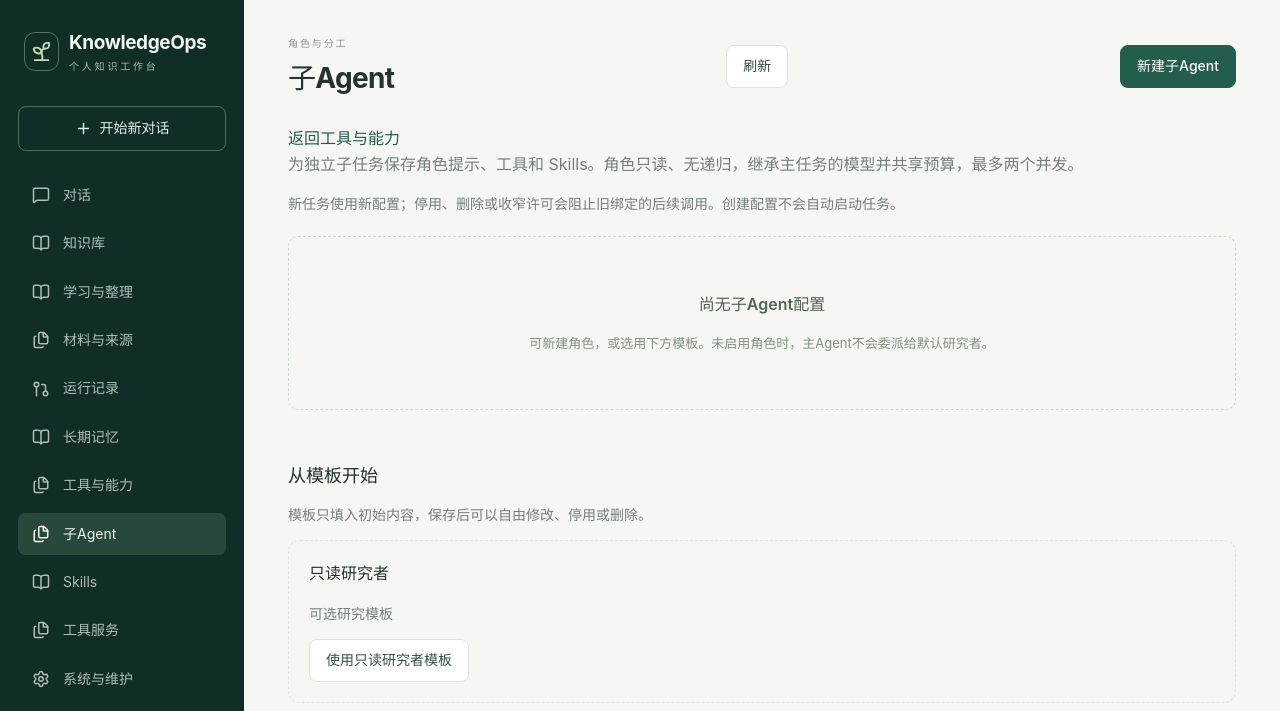
opens a template without writing and saves it as an editable ordinary role
This screenshot has width=1280, height=711.
Click the link "使用只读研究者模板".
click(389, 661)  # box top-left (309, 640), bottom-right (469, 682)
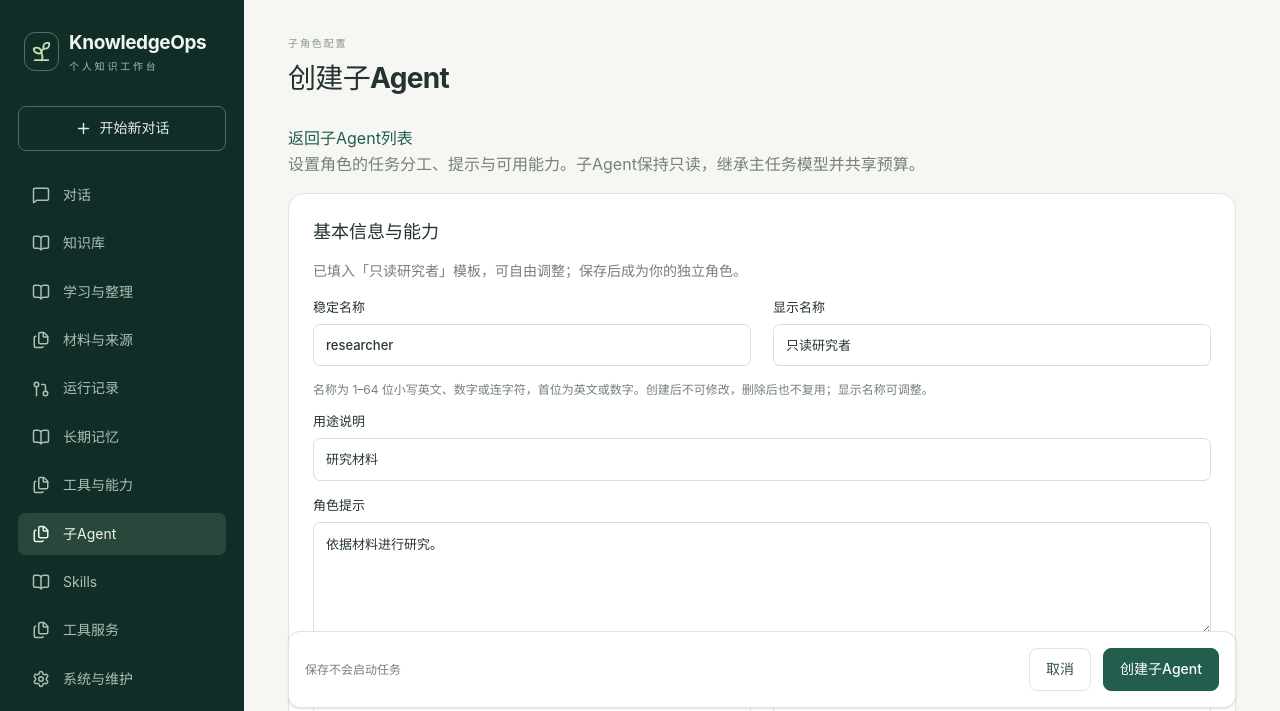
Now the field labelled "稳定名称" holds "researcher", box top-left (313, 324), bottom-right (751, 366)
Type "甲" into the field labelled "显示名称".
click(992, 345); type("甲")  # box top-left (773, 324), bottom-right (1211, 366)
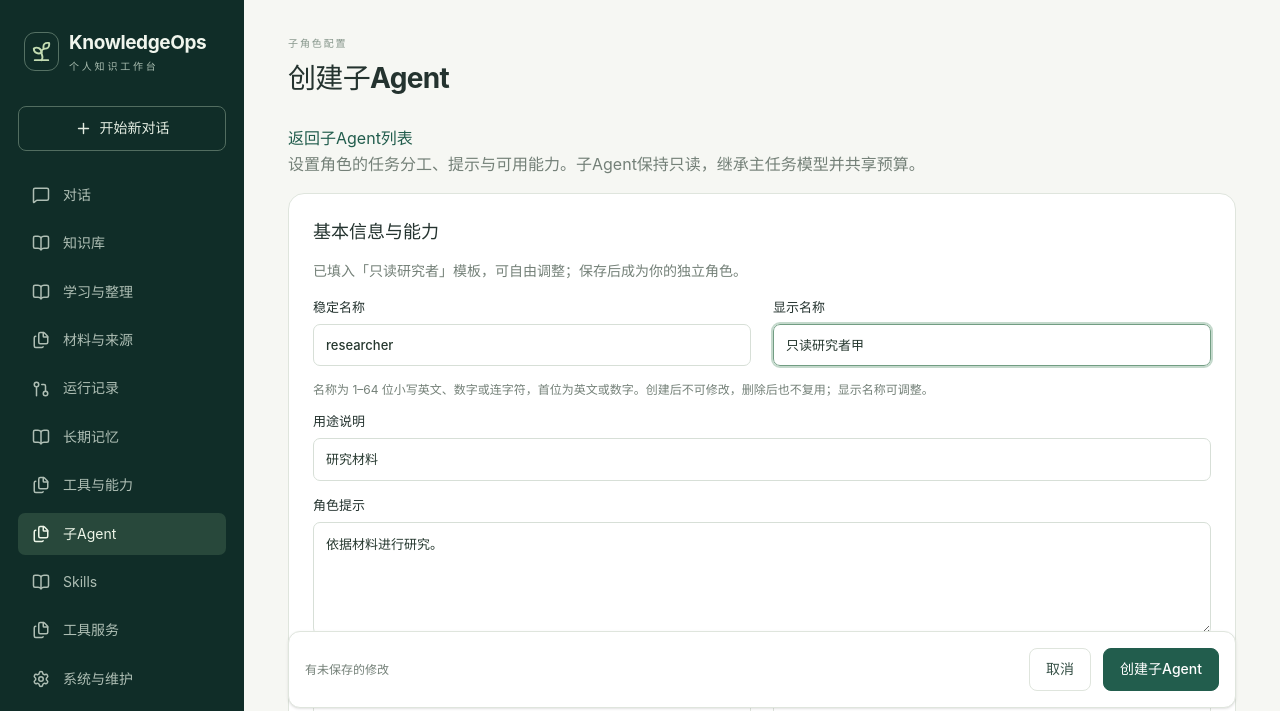
Click the button "创建子Agent".
click(1161, 670)  # box top-left (1103, 649), bottom-right (1219, 691)
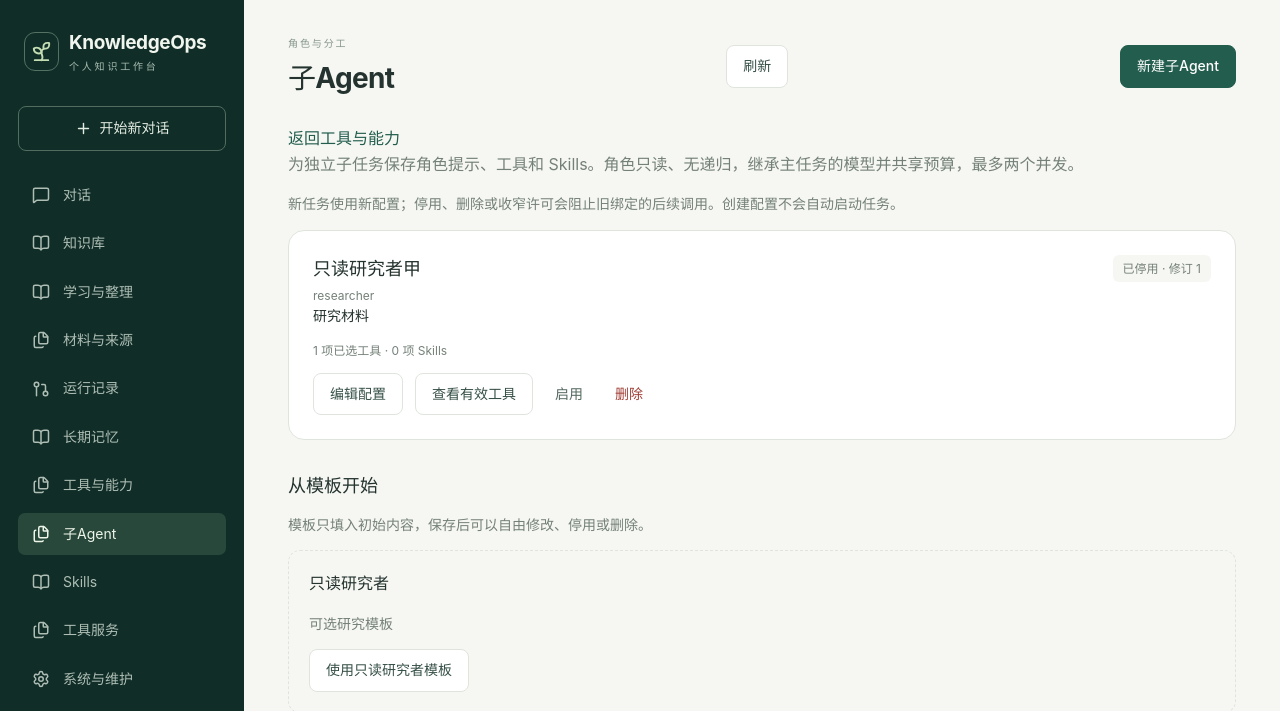
Now the link "编辑配置" is shown, box top-left (313, 372), bottom-right (403, 415)
Now the button "删除" is shown, box top-left (605, 376), bottom-right (653, 411)
Now the text "researcher" is shown, box top-left (313, 288), bottom-right (374, 303)
